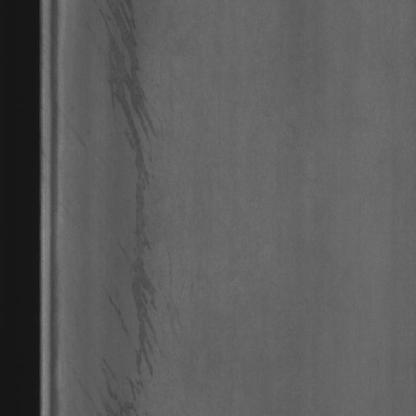water_spot: (97, 6, 173, 404)
